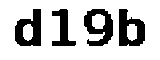1: (47, 6, 78, 52)
9: (82, 6, 116, 49)
b: (116, 5, 149, 52)
d: (13, 7, 46, 51)
